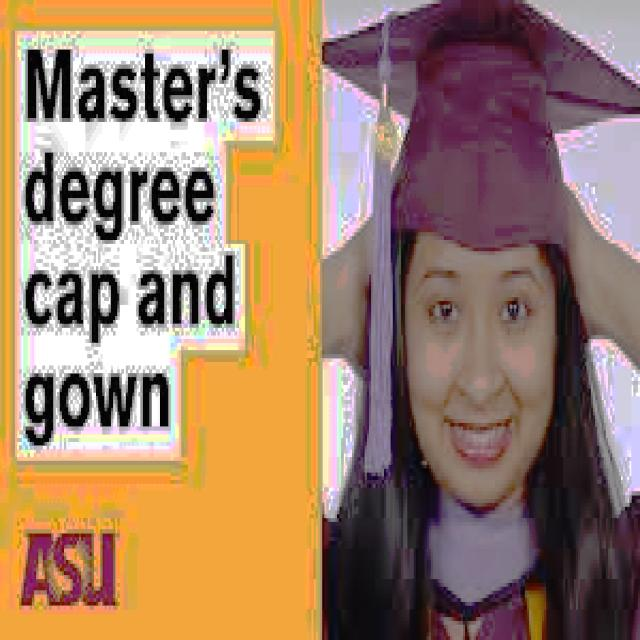TOPI: (322, 0, 634, 255)
